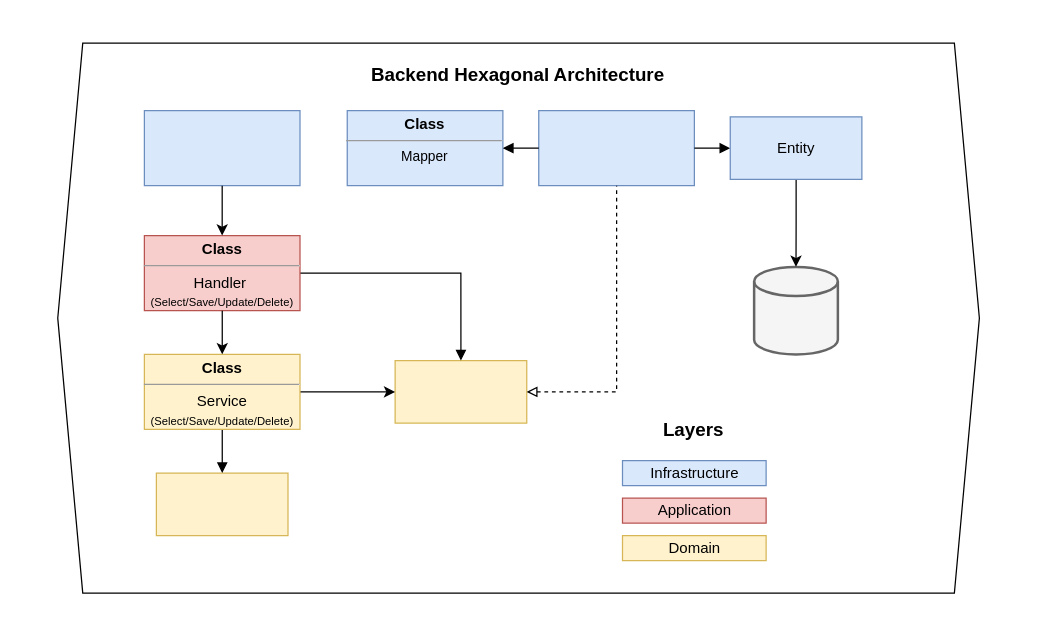
This 1043x639 diagram has some shape labels left out. The shapes that lost their labels are listed below. From the top down, each one's centre as x and y in pixels, then its label:
[221,147]: Class Controller (Comand/Query)
[616,147]: Class RepositoryImpl/DaoImpl
[460,391]: «interface» Repository/Dao
[221,504]: Model/Dto
